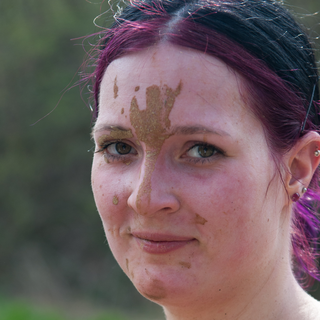eye: (178, 138, 229, 164), (99, 136, 142, 163)
